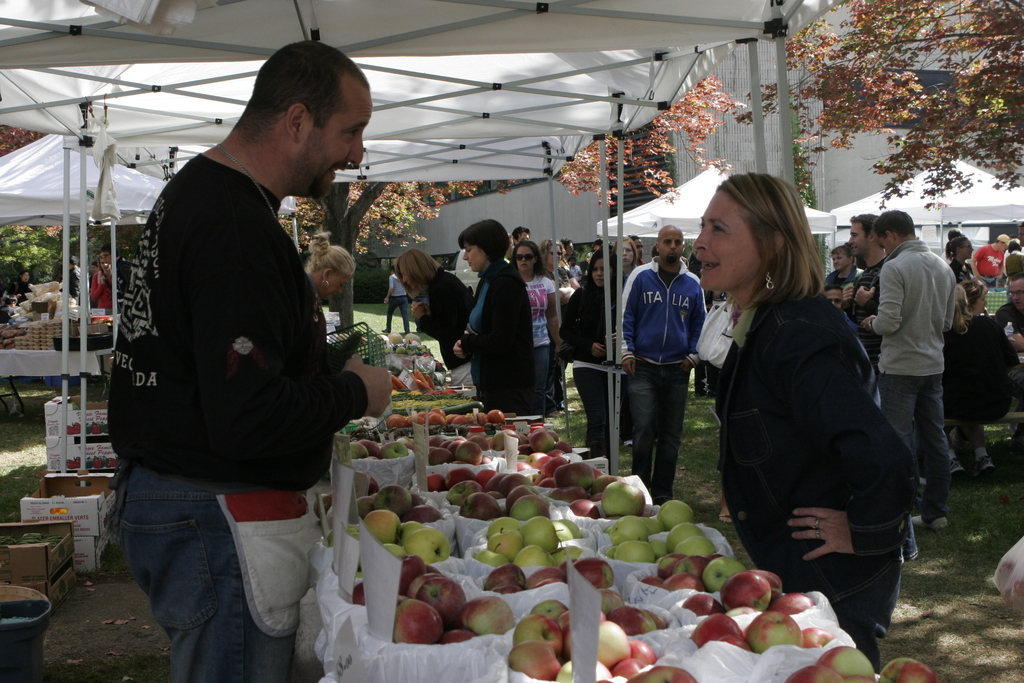Apple: (526, 456, 784, 615), (354, 484, 518, 646), (425, 466, 613, 599), (506, 591, 698, 682), (693, 592, 838, 656), (426, 430, 569, 465), (394, 597, 444, 642), (815, 646, 879, 679), (383, 408, 506, 425), (879, 658, 939, 682), (782, 663, 840, 682), (349, 440, 410, 458), (842, 675, 881, 682)
